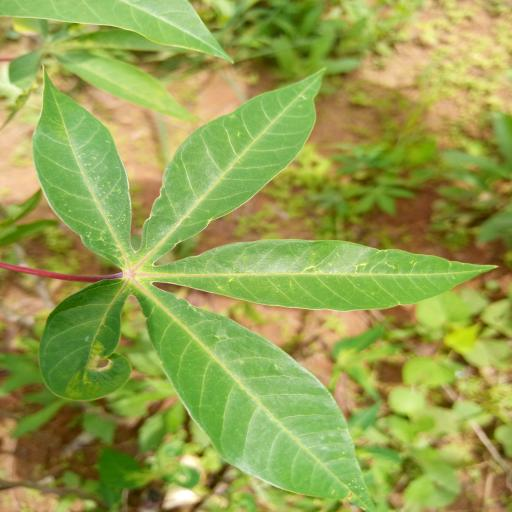Cassava_Healthy: (30, 64, 506, 510)
